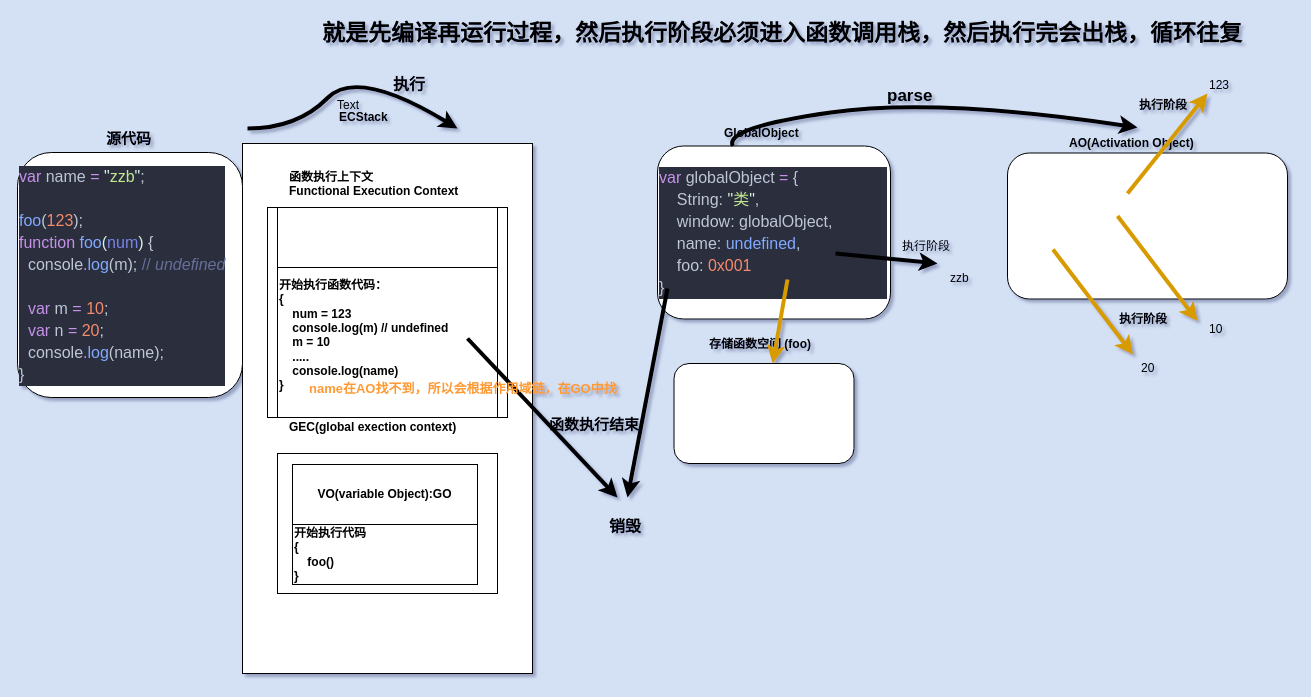
The diagram is 1311 pixels wide and 697 high, and some of its shapes have lost their labels. The centre of each missing label's shape, as x and y in pixels:
[[scope]]: parent scope 函数的执行体（代码块）: the point at 763,413
num: undefined m: undefined ; n: undefined ;: the point at 1147,225
VO(variable Object):AO scope chain: VO + ParentScope(GO): the point at 387,237
